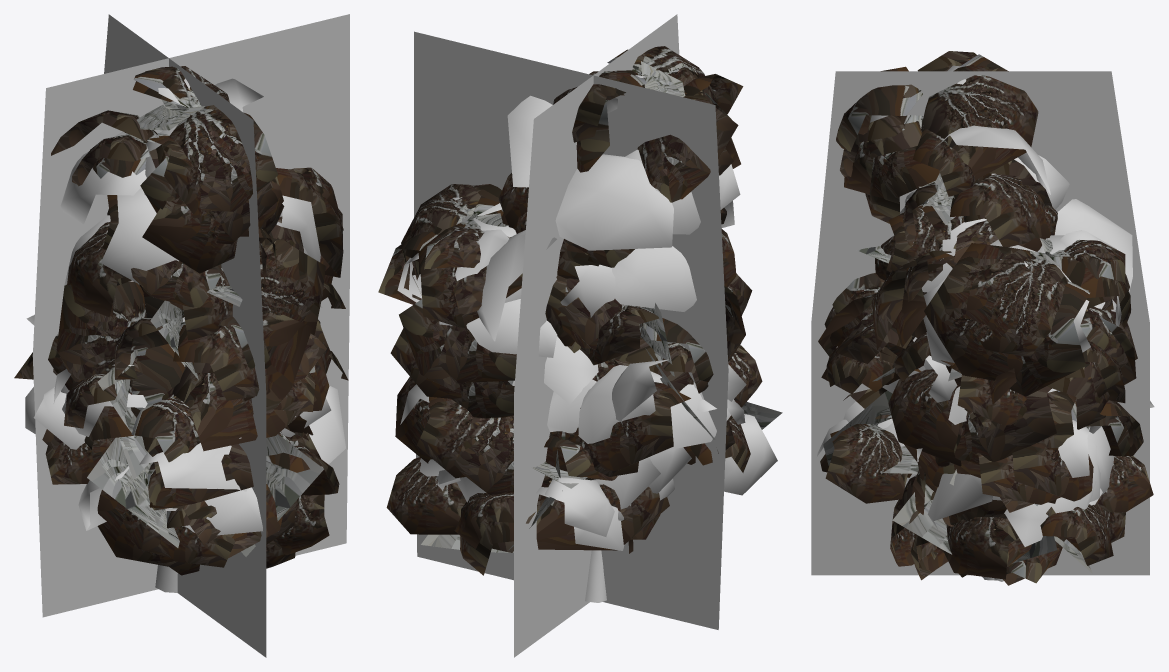
File: Birch3.fbx
The picture shows the model from 3 angles, left to right: view 1: azimuth 30°, elevation 25°; view 2: azimuth 150°, elevation 25°; view 3: azimuth 270°, elevation 25°; orthographic projection. The views are drawn at different scales.
Visible parts, largest first — view 1: LOD0, Billboard; view 2: LOD0, Billboard; view 3: LOD0, Billboard.
Part boxes in pixels (box(x1,y1,x2,y2)): LOD0: box(14, 66, 348, 592); Billboard: box(32, 14, 349, 657); LOD0: box(378, 46, 782, 602); Billboard: box(414, 14, 728, 657); LOD0: box(817, 51, 1154, 585); Billboard: box(811, 71, 1149, 575).
Size of what is drawn, in the model's own units: 512 by 804 by 497.
